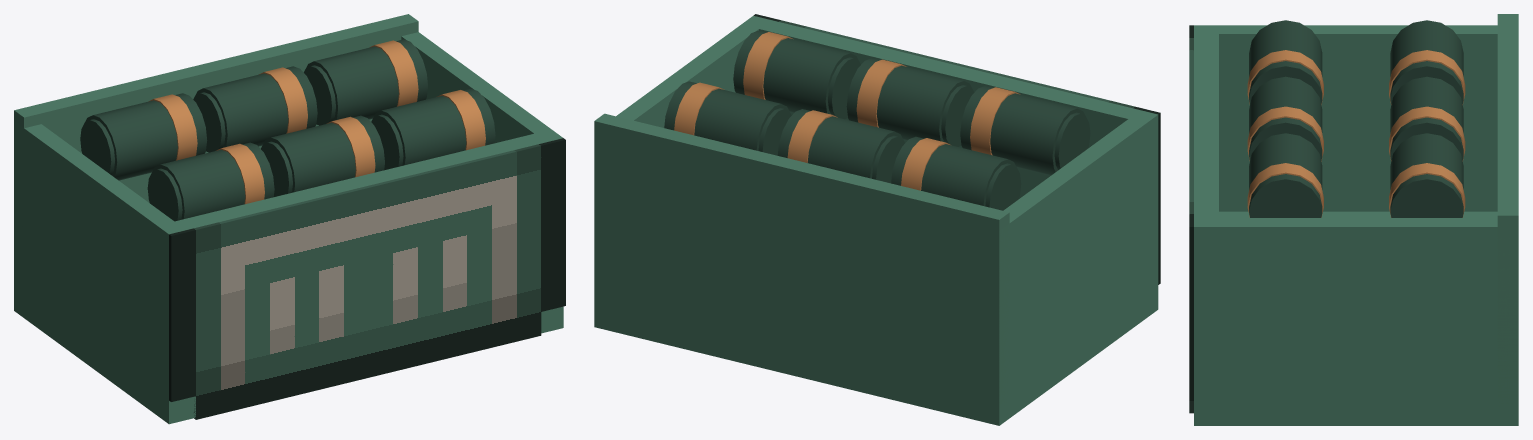
Rendered from CMU3DRMCBoxShotgunSlugs.glb.
3 views of the same model, side by side, from view 1: azimuth 30°, elevation 25°; view 2: azimuth 150°, elevation 25°; view 3: azimuth 270°, elevation 25° (orthographic). The views are drawn at different scales.
Visible parts, largest first — view 1: Front source artwork, carton side wall (×2), source horizontal shell hull (×6), rear carton wall, source brass band (×6), shell crimped end (×6), printed front wall, open carton bottom; view 2: rear carton wall, carton side wall (×2), source horizontal shell hull (×6), open carton bottom, source brass band (×6), shell crimped end (×6), printed front wall, Front source artwork; view 3: carton side wall (×2), source horizontal shell hull (×6), rear carton wall, open carton bottom, printed front wall, source brass band (×6), Front source artwork.
Part boxes in pixels (<box>): Front source artwork: <box>169,138,565,419</box>; carton side wall (×2): <box>14,32,563,405</box>; source horizontal shell hull (×6): <box>85,39,495,219</box>; rear carton wall: <box>14,14,418,298</box>; source brass band (×6): <box>148,40,485,204</box>; shell crimped end (×6): <box>80,65,403,221</box>; printed front wall: <box>157,129,562,406</box>; open carton bottom: <box>14,290,563,424</box>; rear carton wall: <box>594,113,1009,408</box>; carton side wall (×2): <box>594,15,1158,408</box>; source horizontal shell hull (×6): <box>664,30,1085,206</box>; open carton bottom: <box>594,289,1158,425</box>; source brass band (×6): <box>674,32,1020,190</box>; shell crimped end (×6): <box>758,57,1090,210</box>; printed front wall: <box>743,16,1157,198</box>; Front source artwork: <box>753,14,1160,284</box>; carton side wall (×2): <box>1194,25,1518,408</box>; source horizontal shell hull (×6): <box>1249,20,1463,217</box>; rear carton wall: <box>1497,14,1518,408</box>; open carton bottom: <box>1194,211,1518,425</box>; printed front wall: <box>1194,25,1218,408</box>; source brass band (×6): <box>1247,50,1465,217</box>; Front source artwork: <box>1189,25,1193,413</box>.
Size of the model in its own units: 0.5 by 0.262 by 0.345.
Materials: 5 (1 with a texture image).
